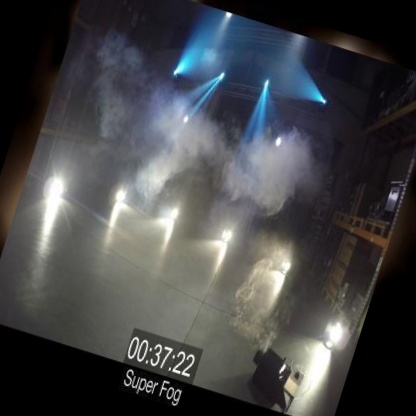smoke: (126, 82, 314, 214)
